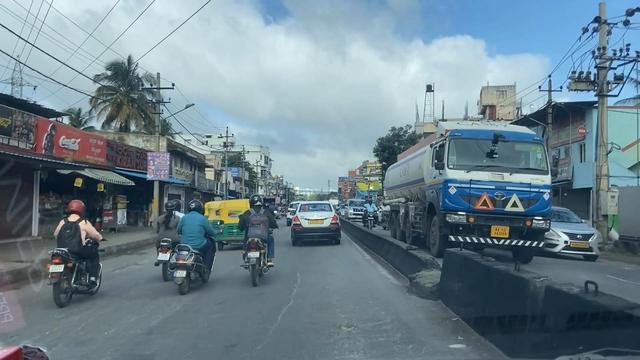LMV: (169, 198, 217, 299), (242, 193, 271, 297), (291, 202, 338, 251)
RoadDamages: (37, 316, 137, 352), (325, 313, 385, 350), (266, 303, 293, 341), (286, 266, 304, 298)
